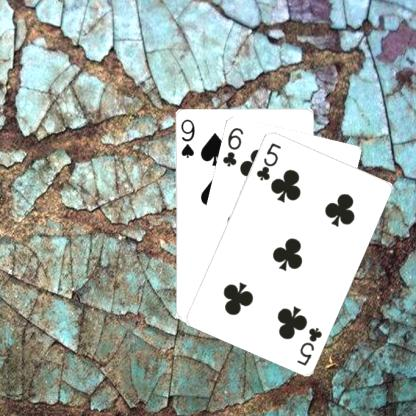5C: (253, 139, 283, 182), (294, 324, 323, 366)
6C: (220, 124, 244, 168)
9S: (177, 116, 196, 159)
